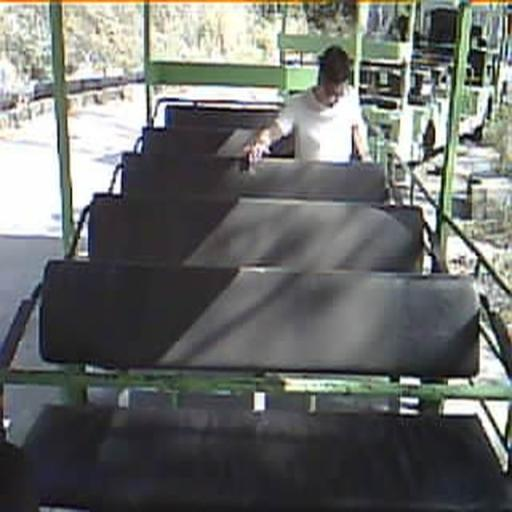persona: (242, 44, 374, 166)
